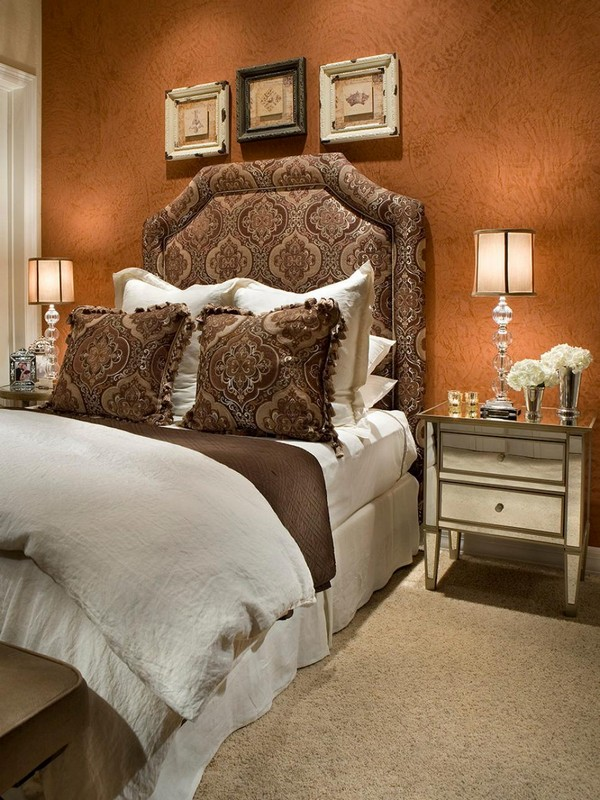bed: (4, 161, 433, 777)
lamp: (469, 228, 542, 420), (21, 252, 77, 398)
table: (419, 389, 598, 617)
